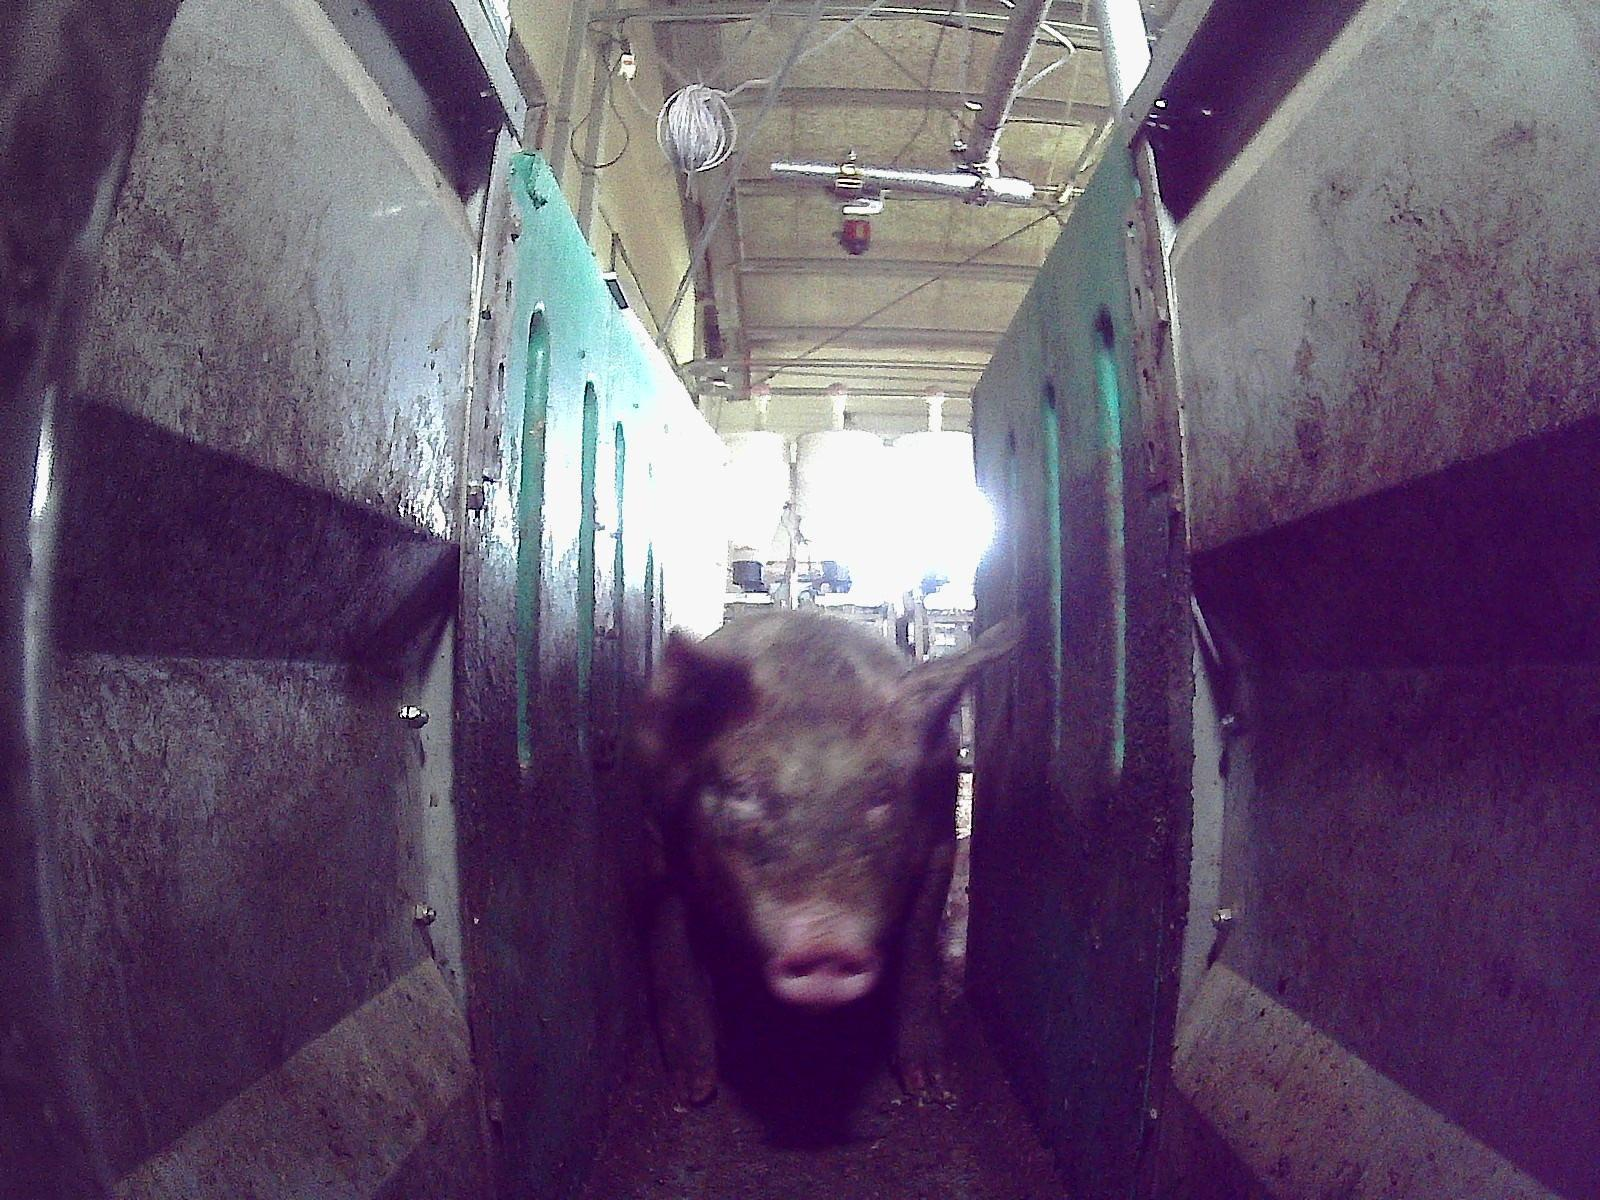Face: (700, 698, 921, 1003)
